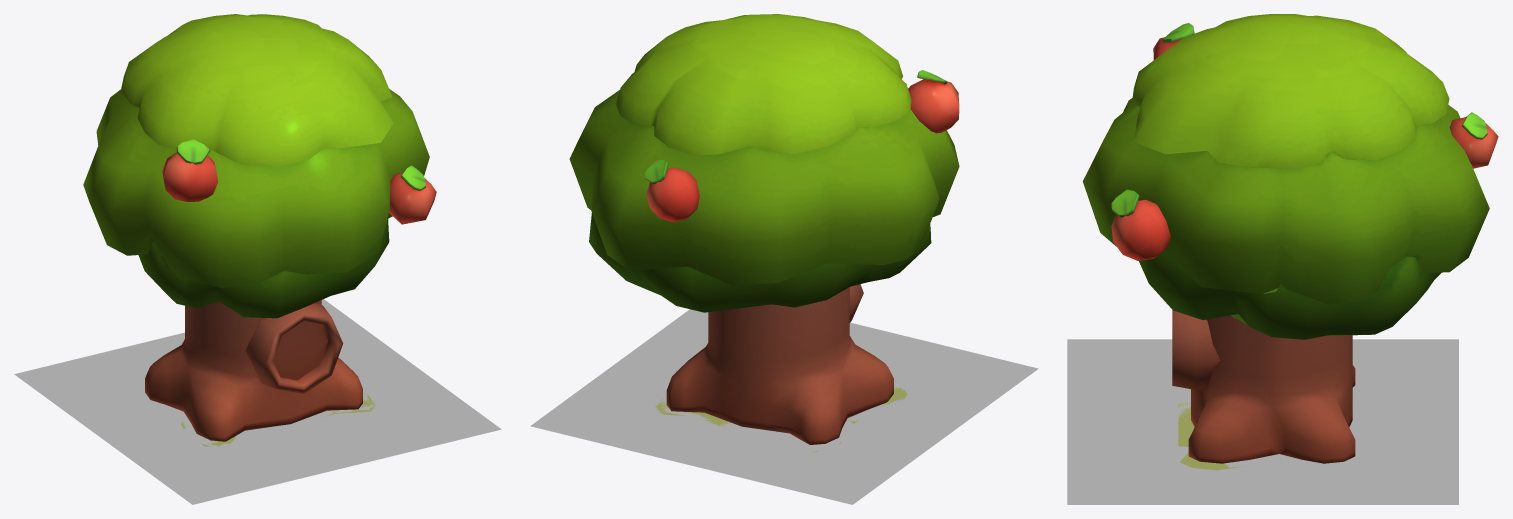
The model's file is AppleTree.fbx.
3 views of the same model, side by side, from view 1: azimuth 30°, elevation 25°; view 2: azimuth 150°, elevation 25°; view 3: azimuth 270°, elevation 25° (orthographic). The views are drawn at different scales.
Parts seen in each view (by area): view 1: AppleTree_Leaf, AppleTree_Grid.001, AppleTree, Trunk, AppleTree_Apple; view 2: AppleTree_Leaf, AppleTree_Grid.001, AppleTree, AppleTree_Apple, AppleTreeShadow; view 3: AppleTree_Leaf, AppleTree_Grid.001, AppleTree, AppleTree_Apple, Trunk, AppleTreeShadow.
Boxes of the visible parts, <box> form: AppleTree_Leaf: <box>83,14,429,318</box>; AppleTree_Grid.001: <box>14,299,501,504</box>; AppleTree: <box>145,300,362,441</box>; Trunk: <box>245,303,343,393</box>; AppleTree_Apple: <box>162,139,436,224</box>; AppleTree_Leaf: <box>569,14,959,312</box>; AppleTree_Grid.001: <box>530,309,1038,504</box>; AppleTree: <box>666,287,893,444</box>; AppleTree_Apple: <box>644,70,959,222</box>; AppleTreeShadow: <box>655,386,907,452</box>; AppleTree_Leaf: <box>1082,14,1489,339</box>; AppleTree_Grid.001: <box>1067,339,1458,504</box>; AppleTree: <box>1188,315,1355,463</box>; AppleTree_Apple: <box>1111,23,1498,260</box>; Trunk: <box>1172,310,1220,390</box>; AppleTreeShadow: <box>1178,382,1364,470</box>.
Bounding box in the file's own units: 311 × 327 × 330.
